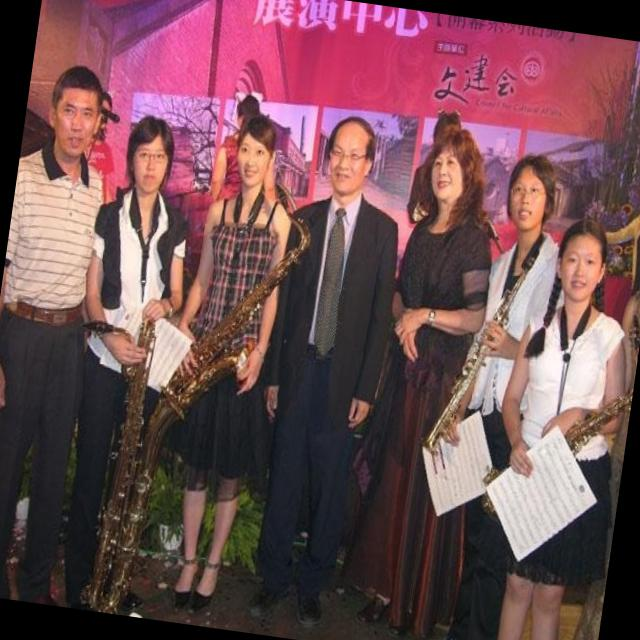saxophone: (42, 307, 197, 620), (164, 188, 318, 422)
